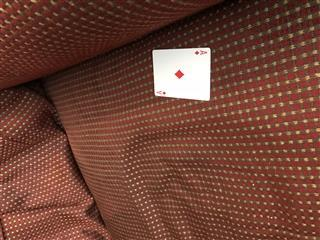AceOfDiamonds: (152, 46, 211, 101)
